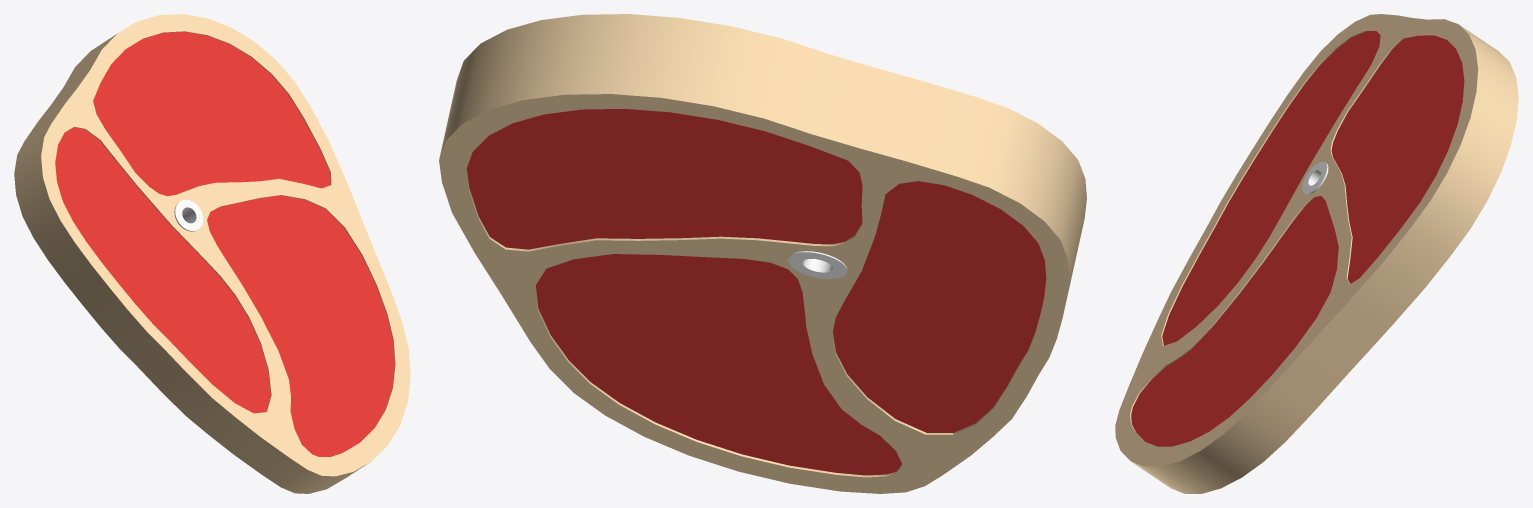
File: cut_of_meat.glb
3 renders of one model, left to right at view 1: azimuth 30°, elevation 25°; view 2: azimuth 150°, elevation 25°; view 3: azimuth 270°, elevation 25°, orthographic. The views are drawn at different scales.
Visible parts, largest first — view 1: Circle.2206; view 2: Circle.2206; view 3: Circle.2206.
Part boxes in pixels (x1,y1,x2,y2): Circle.2206: [14, 14, 410, 493]; Circle.2206: [439, 14, 1086, 493]; Circle.2206: [1115, 14, 1518, 493].
Size of the model in its own units: 1.97 by 2.18 by 1.92.
Materials: 1 (1 with a texture image).
